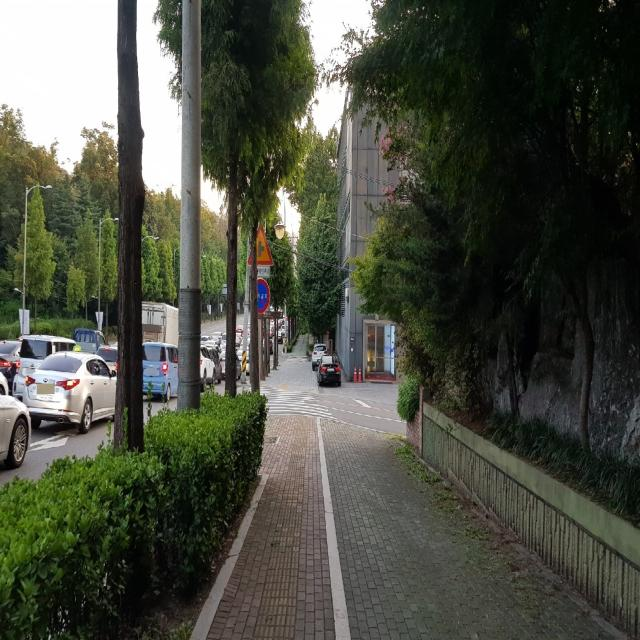횡단보도: (236, 385, 338, 423)
